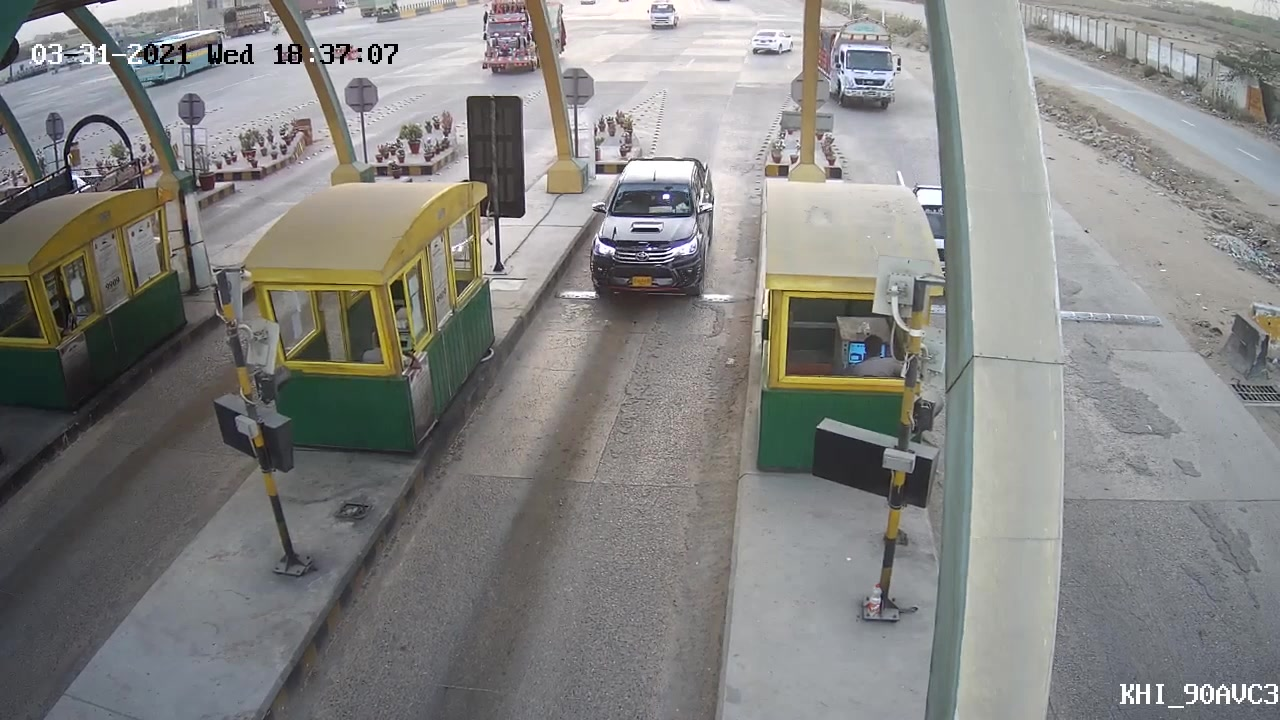F1: (565, 145, 729, 307)
